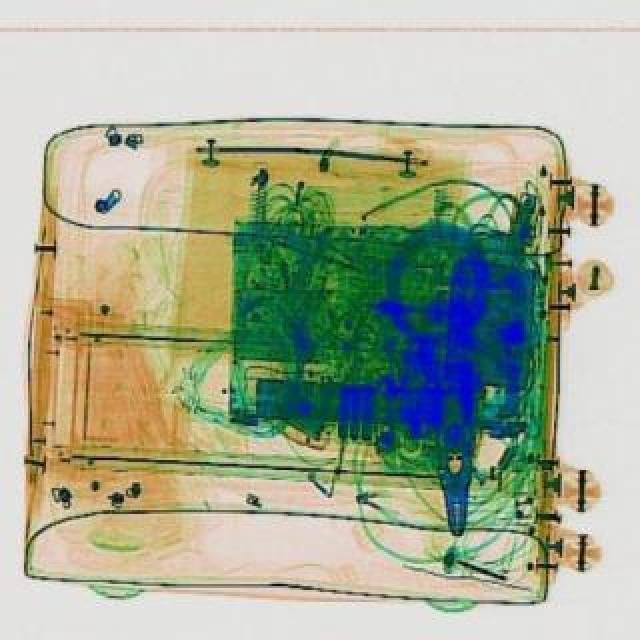wrench: (438, 370, 478, 534)
